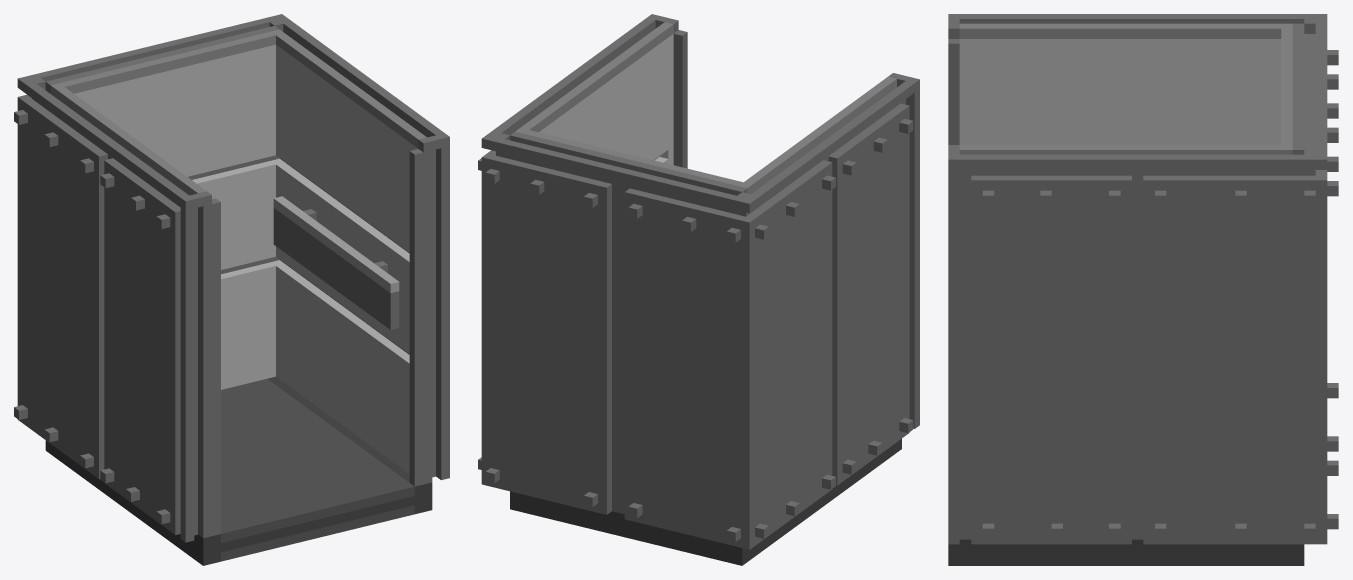
Rendered from Elevator Box.obj.
3 renders of one model, left to right at view 1: azimuth 30°, elevation 25°; view 2: azimuth 150°, elevation 25°; view 3: azimuth 270°, elevation 25°, orthographic. The views are drawn at different scales.
Size of the model in its own units: 32 by 40 by 34.
1 material, 1 textured.
